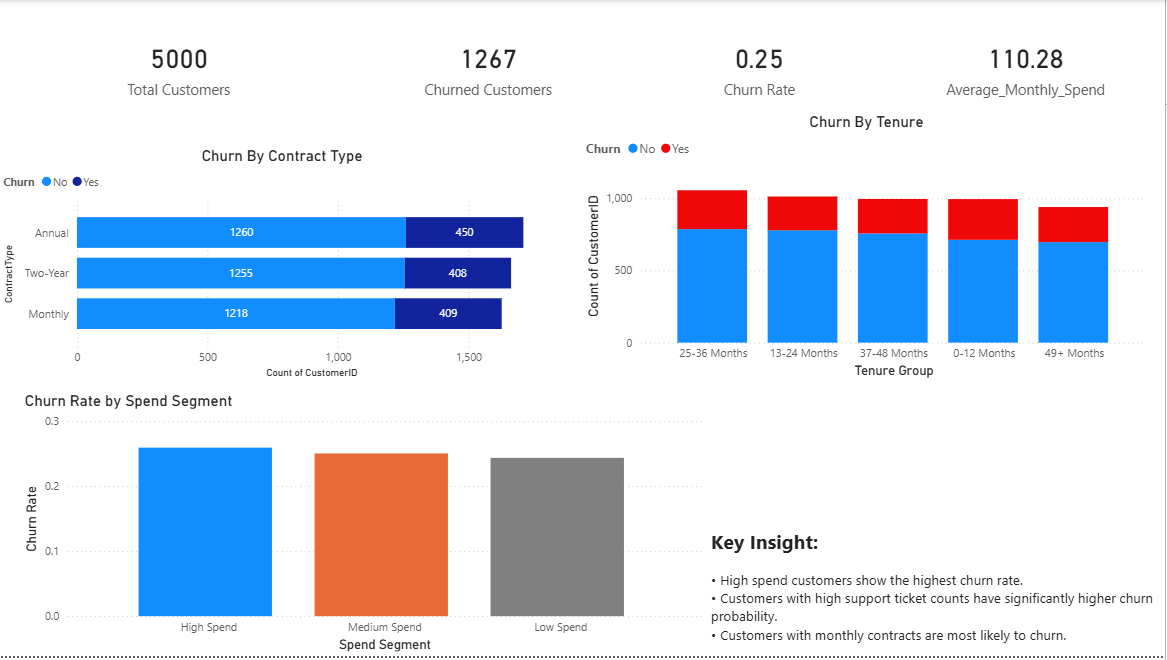

Layout of this report page (visuals, bound fields, positions):
{"tool":"powerbi","page":{"name":"Executive Overview","canvas":[1280,720],"ordinal":0},"visuals":[{"type":"card","fields":{"Values":["customer_churn.Total Customers"]},"box":[0,0,395.2,146.8],"z":0},{"type":"card","fields":{"Values":["customer_churn.Churn Rate"]},"box":[675.1,0,319.7,146.8],"z":1000},{"type":"card","fields":{"Values":["customer_churn.Churned Customers"]},"box":[395.2,0,284,146.8],"z":2000},{"type":"card","fields":{"Values":["customer_churn.Average_Monthly_Spend"]},"box":[974.3,0,306,146.8],"z":3000},{"type":"barChart","title":"Churn By Contract Type","fields":{"Category":["customer_churn.ContractType"],"Y":["CountNonNull(customer_churn.CustomerID)"],"Series":["customer_churn.Churn"]},"box":[0,160.5,621.6,259.3],"z":4000},{"type":"columnChart","title":"Churn By Tenure","fields":{"Category":["customer_churn.Tenure Group"],"Y":["CountNonNull(customer_churn.CustomerID)"],"Series":["customer_churn.Churn"]},"box":[639.5,123.5,625.7,296.4],"z":5000},{"type":"clusteredColumnChart","fields":{"Category":["customer_churn.Spend Segment"],"Y":["customer_churn.Churn Rate"]},"box":[23.3,429.5,753.3,290.9],"z":6000},{"type":"textbox","box":[776.7,575,503.6,145.5],"z":7000}]}

Visuals, with their boxes in screenshot pixels (x1, y1, x2, y2), scaled from the page's 1280x720 canvas onto the 1167x660 screenshot:
card - customer_churn.Total Customers: (0,0,360,135)
card - customer_churn.Churn Rate: (616,0,907,135)
card - customer_churn.Churned Customers: (360,0,619,135)
card - customer_churn.Average_Monthly_Spend: (888,0,1166,135)
"Churn By Contract Type" barChart: (0,147,567,385)
"Churn By Tenure" columnChart: (583,113,1154,385)
clusteredColumnChart - customer_churn.Spend Segment x customer_churn.Churn Rate: (21,394,708,659)
textbox: (708,527,1166,659)
